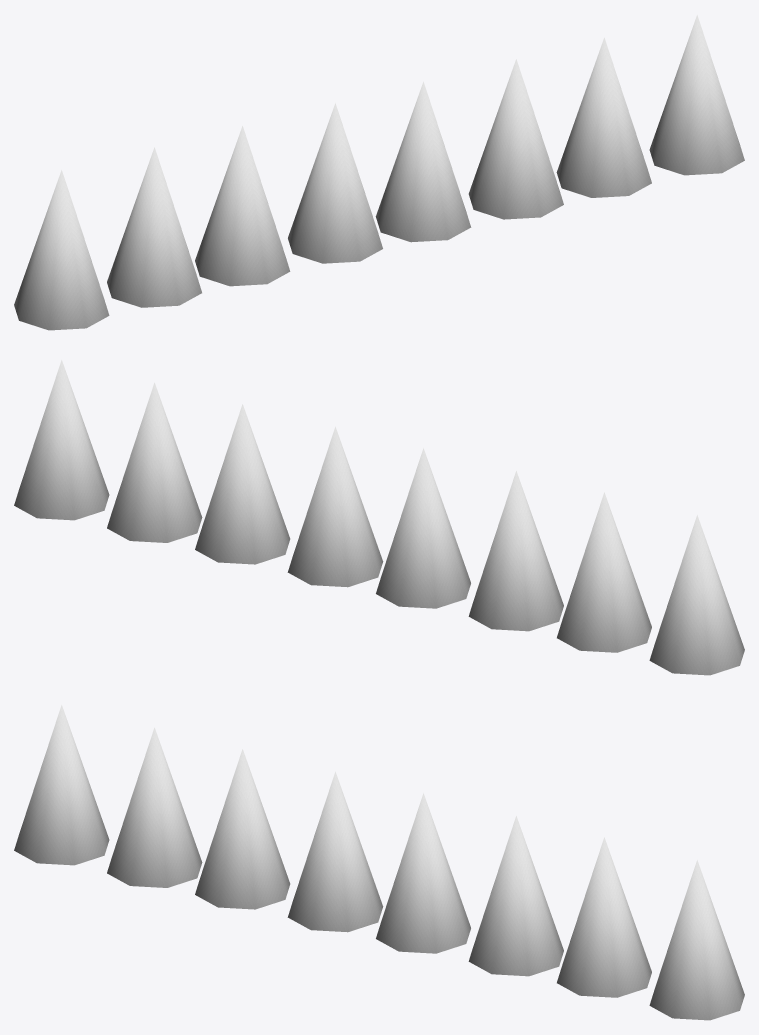
Rendered from needle.fbx.
The picture shows the model from 3 angles, top to bottom: view 1: azimuth 30°, elevation 25°; view 2: azimuth 150°, elevation 25°; view 3: azimuth 330°, elevation 25°; orthographic projection.
Visible parts, largest first — view 1: polymsh_detached; view 2: polymsh_detached; view 3: polymsh_detached.
Boxes of the visible parts, <box> form: polymsh_detached: <box>14,15,744,330</box>; polymsh_detached: <box>14,360,744,675</box>; polymsh_detached: <box>14,705,744,1020</box>.
Bounding box in the file's own units: 316 × 58.9 × 37.49.
